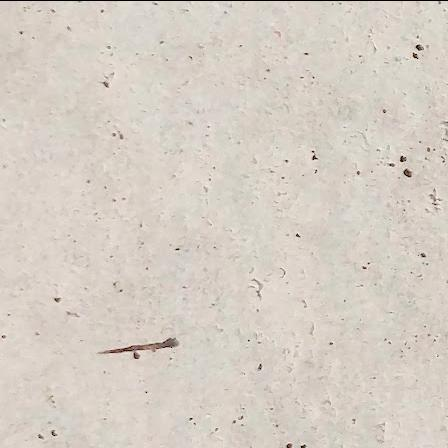spalling: (423, 186, 448, 216)
